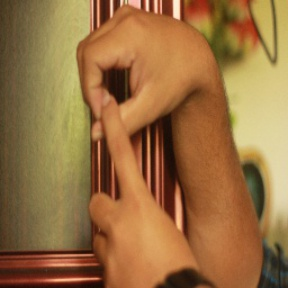Q: (72, 4, 212, 262)
